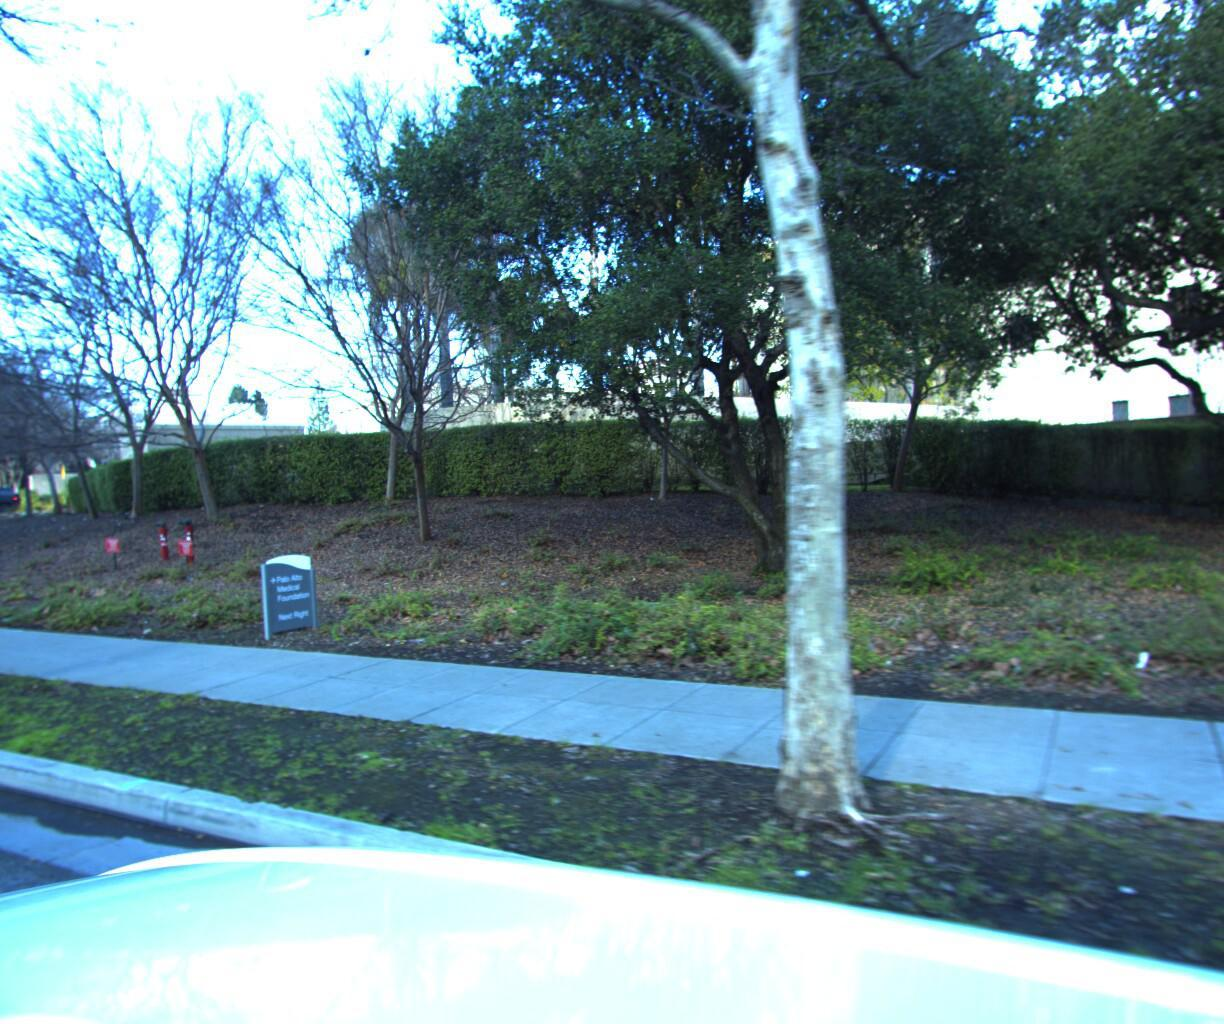car: (0, 483, 24, 520)
